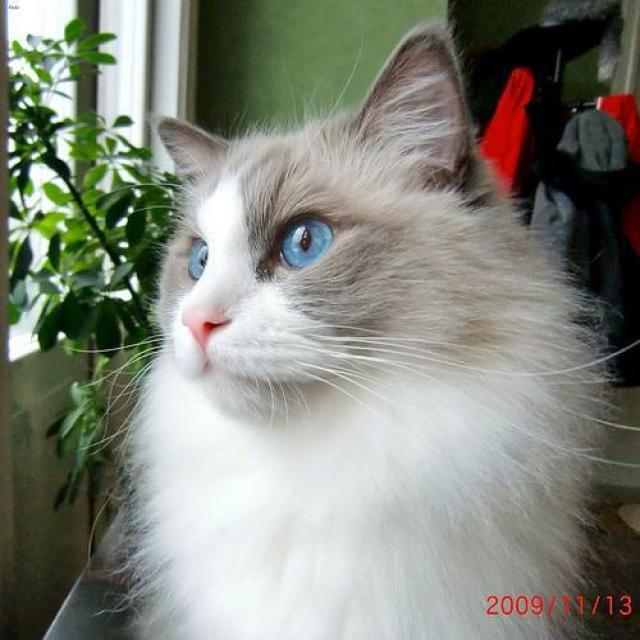cat: (120, 22, 630, 640)
